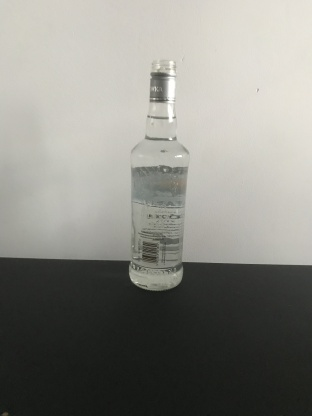nakretka: (147, 58, 178, 104)
